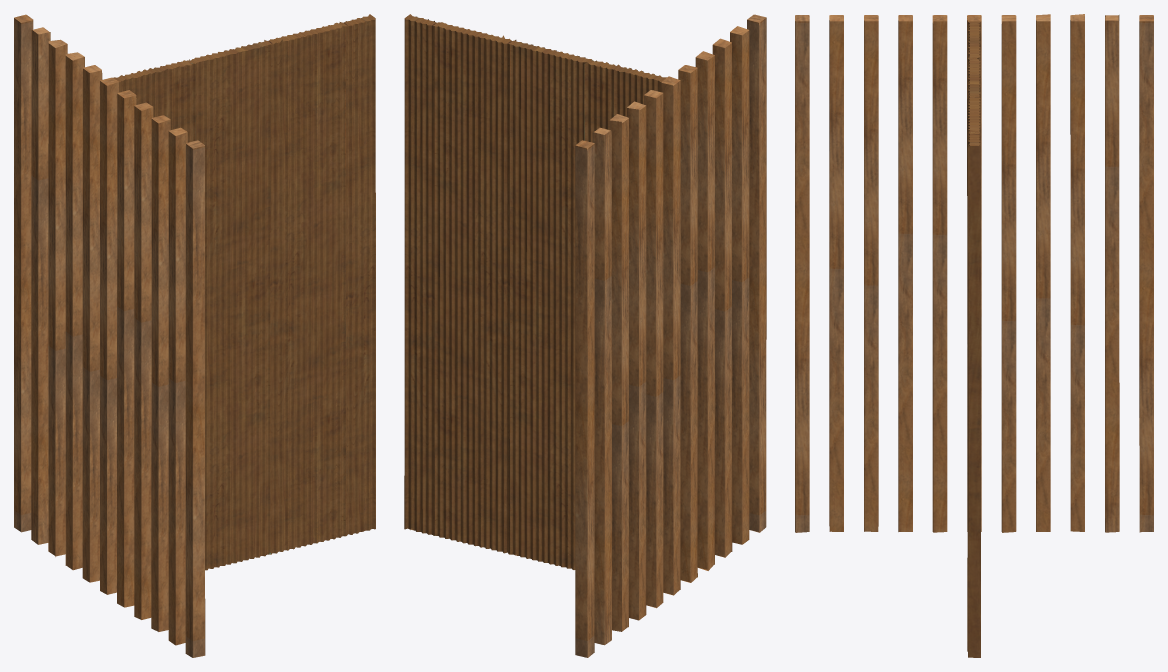
Rendered from SM_Office_wall01aj.fbx.
3 renders of one model, left to right at view 1: azimuth 30°, elevation 25°; view 2: azimuth 150°, elevation 25°; view 3: azimuth 270°, elevation 25°, orthographic.
Visible parts, largest first — view 1: SM_Office_wall01aj_LOD0; view 2: SM_Office_wall01aj_LOD0; view 3: SM_Office_wall01aj_LOD0.
Boxes of the visible parts, x1=… form: SM_Office_wall01aj_LOD0: x1=14, y1=14, x2=375, y2=657; SM_Office_wall01aj_LOD0: x1=404, y1=14, x2=766, y2=657; SM_Office_wall01aj_LOD0: x1=795, y1=14, x2=1153, y2=657.
Bounding box in the file's own units: 249 × 287 × 454.
